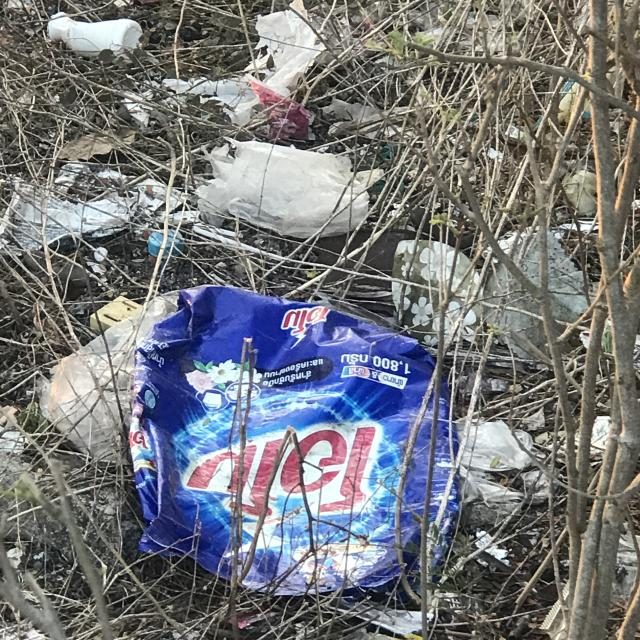HDPE Plastic: (48, 12, 142, 55)
Single-layer Plastic: (40, 291, 178, 461), (162, 0, 325, 125), (196, 139, 384, 239), (246, 0, 325, 96)
